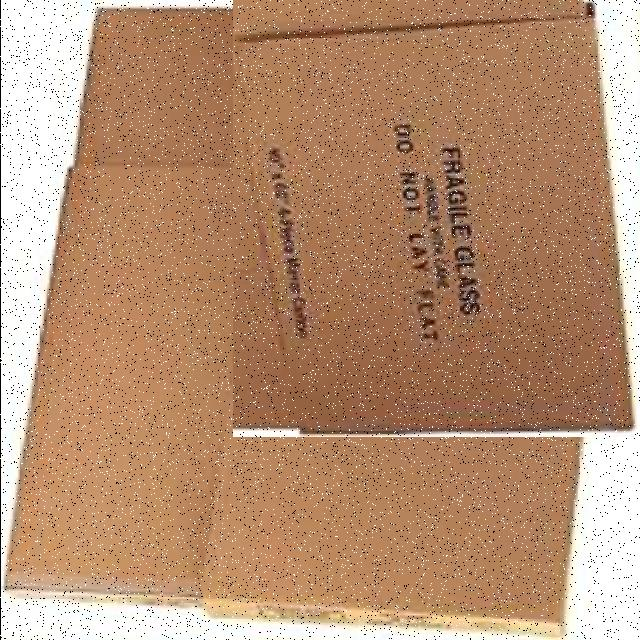normal: (232, 0, 636, 437), (197, 390, 591, 636)
